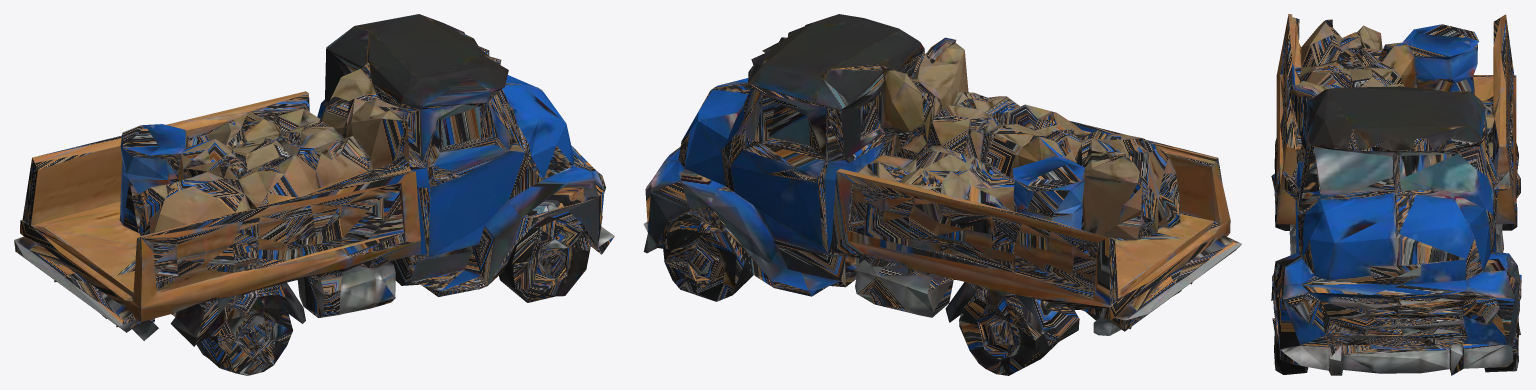
Rendered from vehicle_truck_blue.glb.
3 renders of one model, left to right at view 1: azimuth 30°, elevation 25°; view 2: azimuth 150°, elevation 25°; view 3: azimuth 270°, elevation 25°, orthographic.
Visible parts, largest first — view 1: normalize; view 2: normalize; view 3: normalize.
Part boxes in pixels (x1,y1,x2,y2): normalize: (14,14,614,375); normalize: (643,14,1241,375); normalize: (1271,14,1521,375).
Bounding box in the file's own units: 1 × 0.4412 × 0.4299.
1 material, 1 textured.
